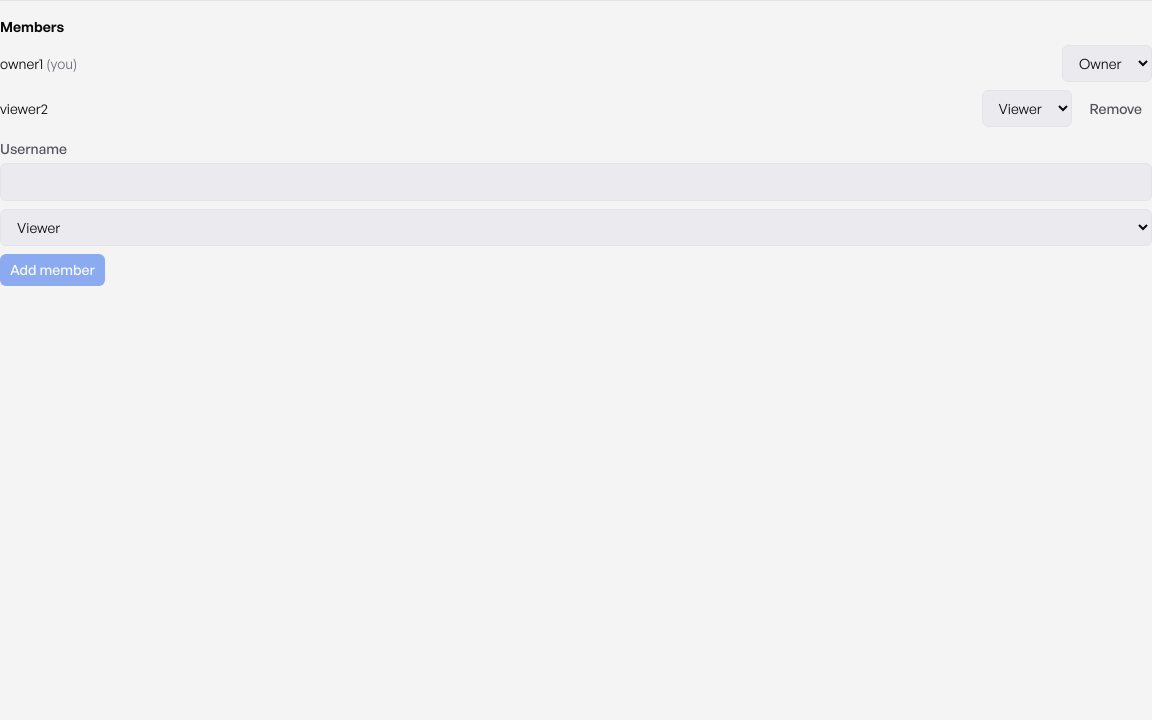
it: BookMembersSettings › Remove › asks first, and sends nothing on Cancel
This screenshot has width=1152, height=720.
Click the button "Remove" at (1116, 108), box [1080,92,1151,124]
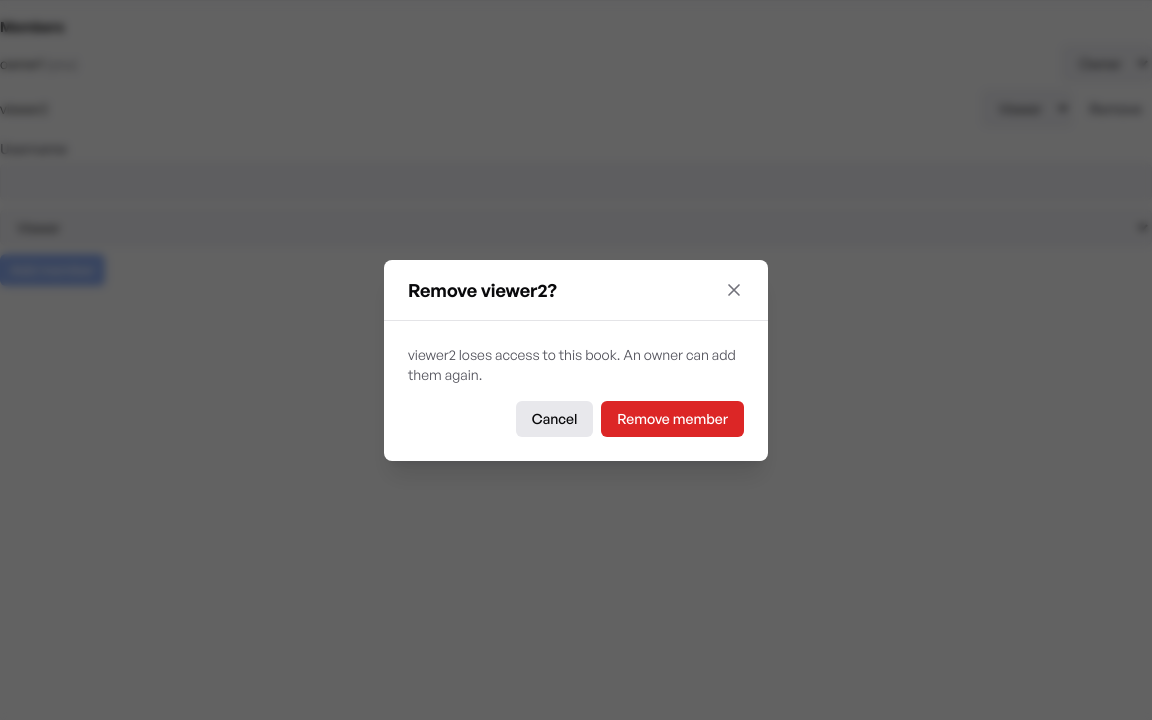
Expected: the heading "Remove viewer2?" is shown, [408,276,557,304]
Click the button "Cancel" at (555, 418), box [516,400,593,436]
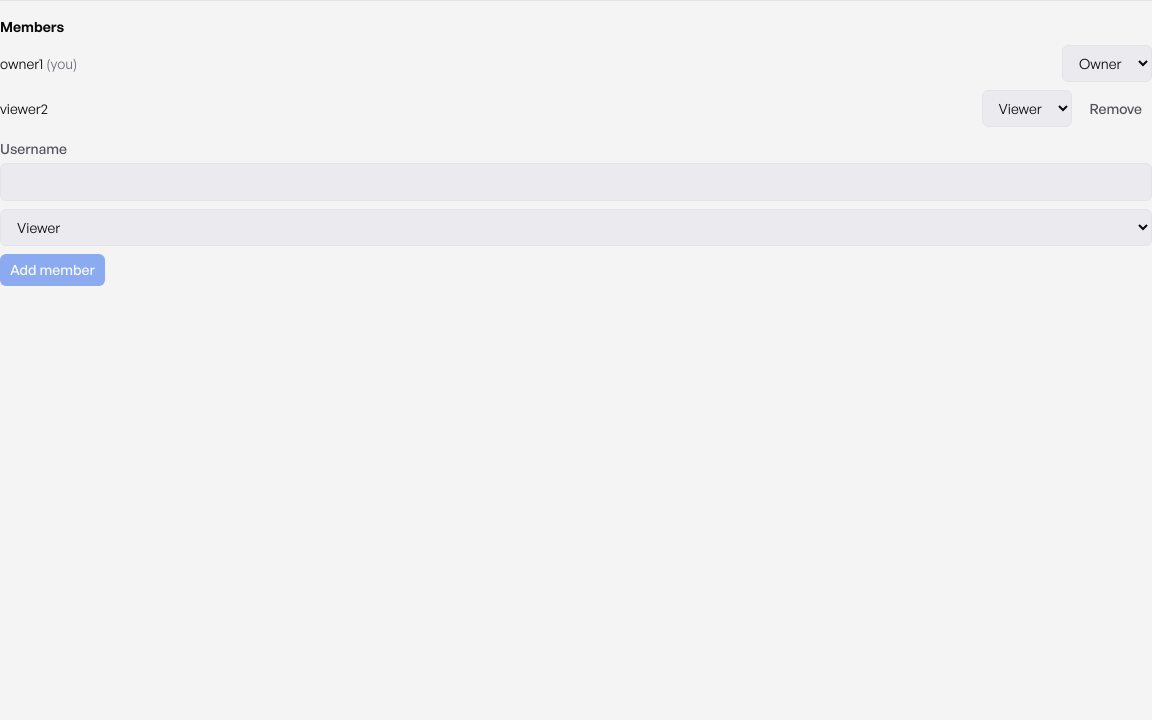
Expected: the heading "Remove viewer2?" is gone
